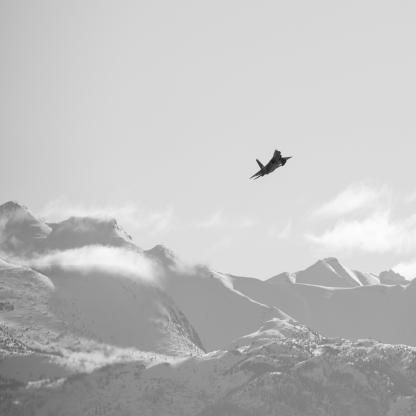F22: (250, 150, 294, 181)
